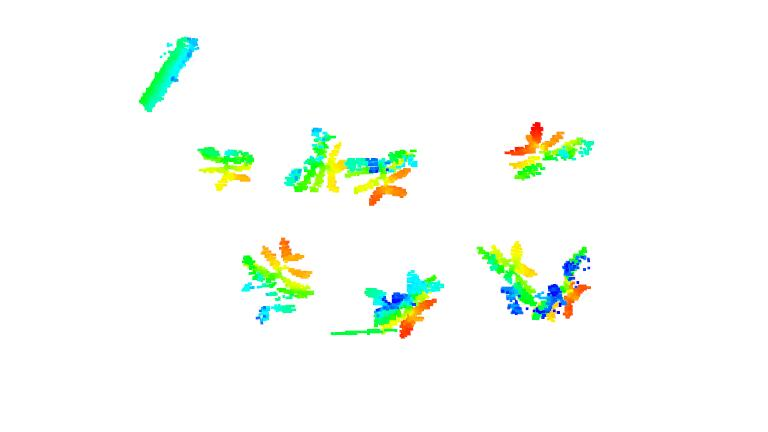chickpea: (233, 237, 313, 321), (503, 122, 595, 180), (363, 271, 443, 337), (343, 143, 419, 210), (474, 240, 539, 314), (533, 246, 591, 325), (285, 124, 344, 197), (192, 140, 255, 191)
